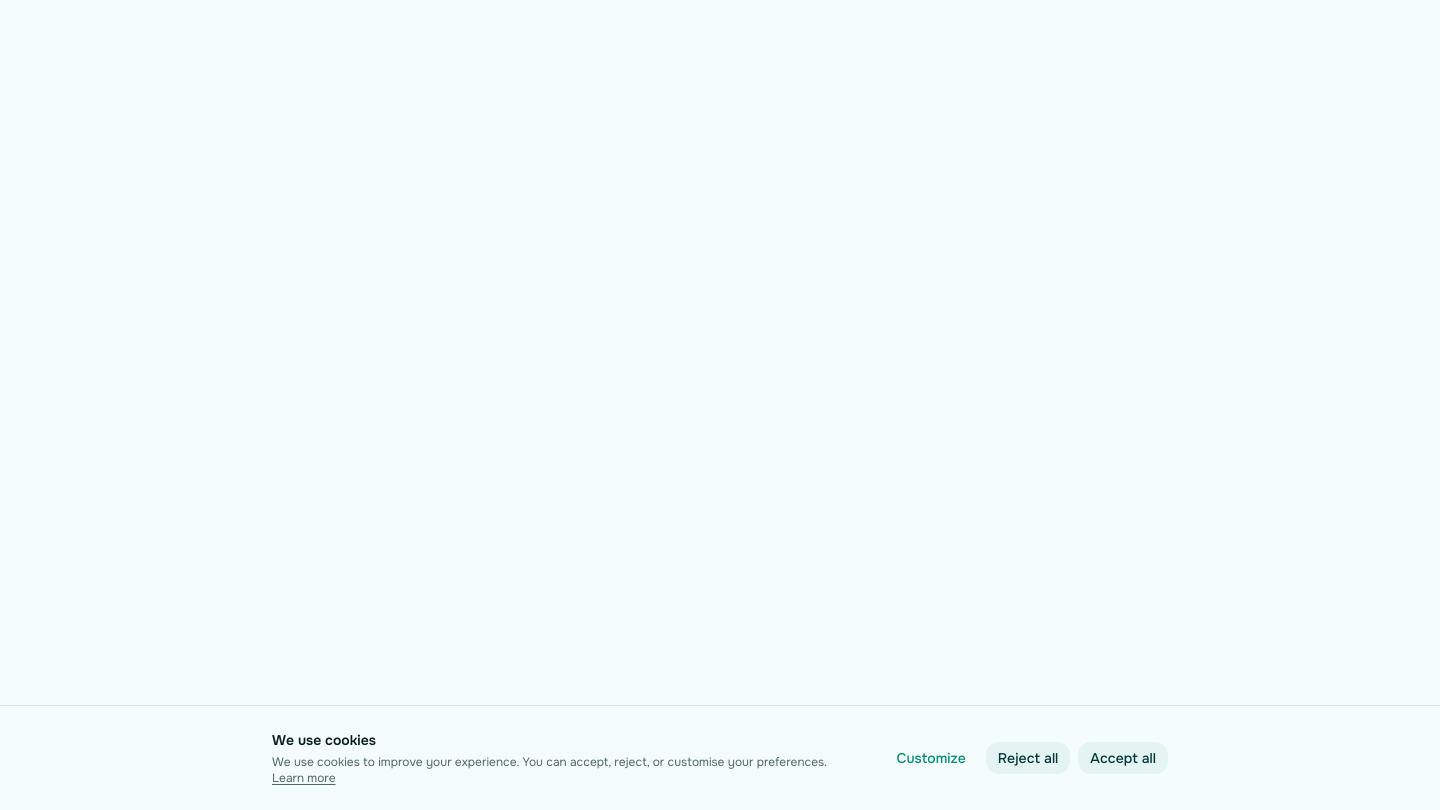
Test: CookiePreferenceCenter — fresh visitor toggle defaults › Necessary switch is always-on (disabled)
Click the button "Customize". click: (931, 758)
box: [884,742,978,774]
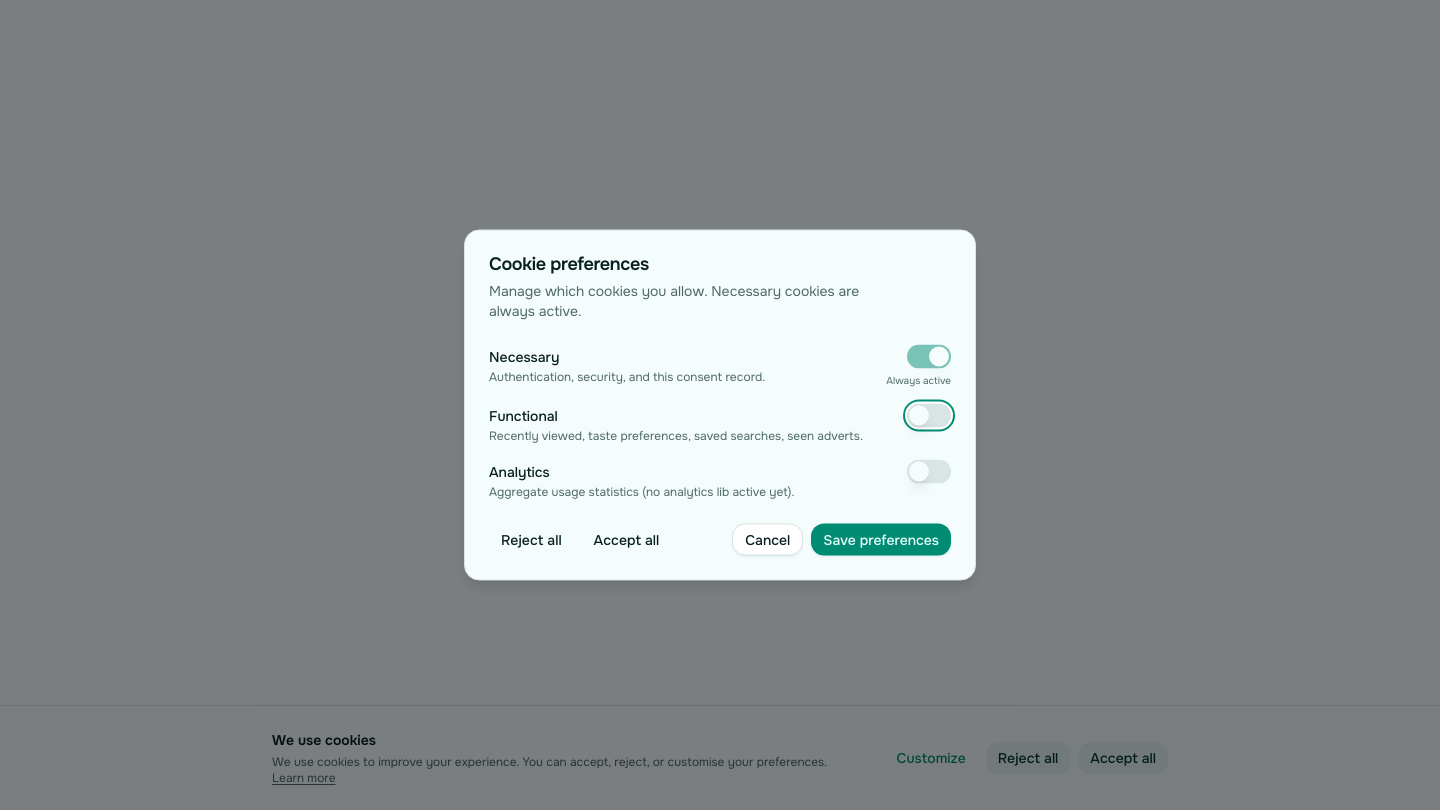
Check: the switch named "necessary" is disabled, box [907,344,951,368]
